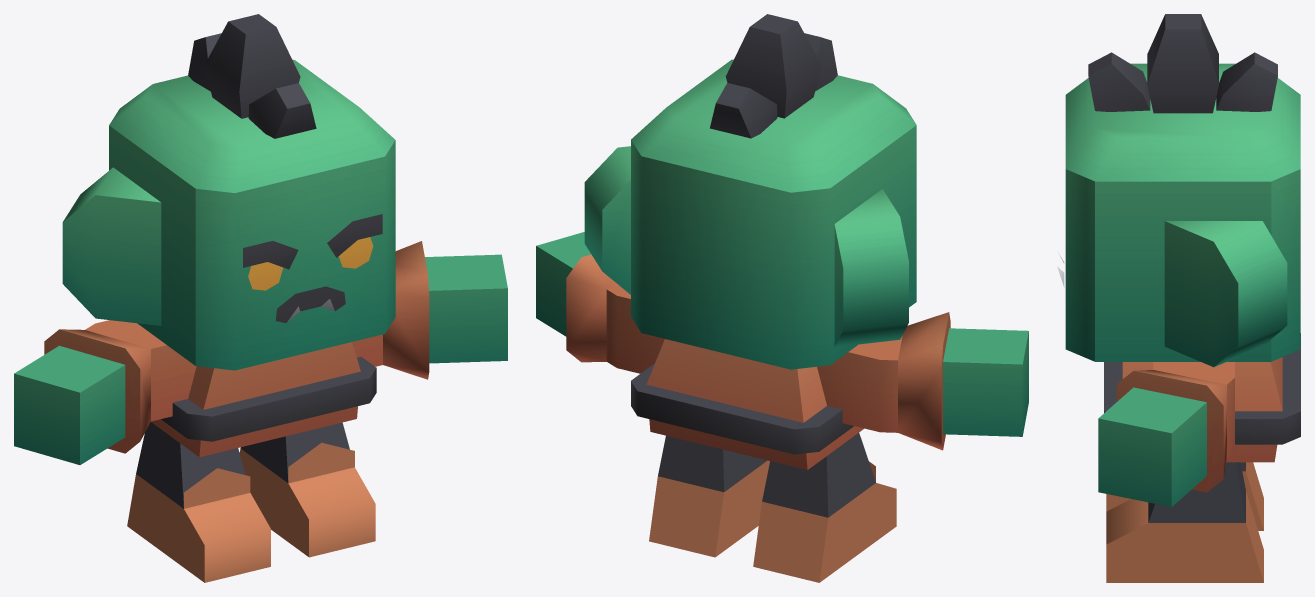
The model's file is orc2.glb.
3 renders of one model, left to right at view 1: azimuth 30°, elevation 25°; view 2: azimuth 150°, elevation 25°; view 3: azimuth 270°, elevation 25°, orthographic.
Parts seen in each view (by area): view 1: head, arm_right, torso, leg_right, arm_left, leg_left; view 2: head, arm_right, torso, leg_right, leg_left, arm_left; view 3: head, arm_left, leg_left, torso, leg_right.
Boxes of the visible parts, x1,y1,x2,y2 form: head: [62, 14, 395, 370]; arm_right: [14, 320, 196, 464]; torso: [151, 342, 376, 457]; leg_right: [127, 422, 270, 582]; arm_left: [352, 241, 507, 379]; leg_left: [239, 422, 375, 557]; head: [584, 14, 916, 369]; arm_right: [817, 312, 1028, 450]; torso: [631, 339, 863, 469]; leg_right: [753, 433, 896, 582]; leg_left: [649, 435, 769, 557]; arm_left: [536, 232, 664, 373]; head: [1057, 14, 1300, 367]; arm_left: [1098, 362, 1234, 506]; leg_left: [1106, 462, 1263, 582]; torso: [1104, 333, 1300, 462]; leg_right: [1106, 462, 1263, 530].
Size of the model in its own units: 78.06 by 78.03 by 33.25.
1 material, 1 textured.
